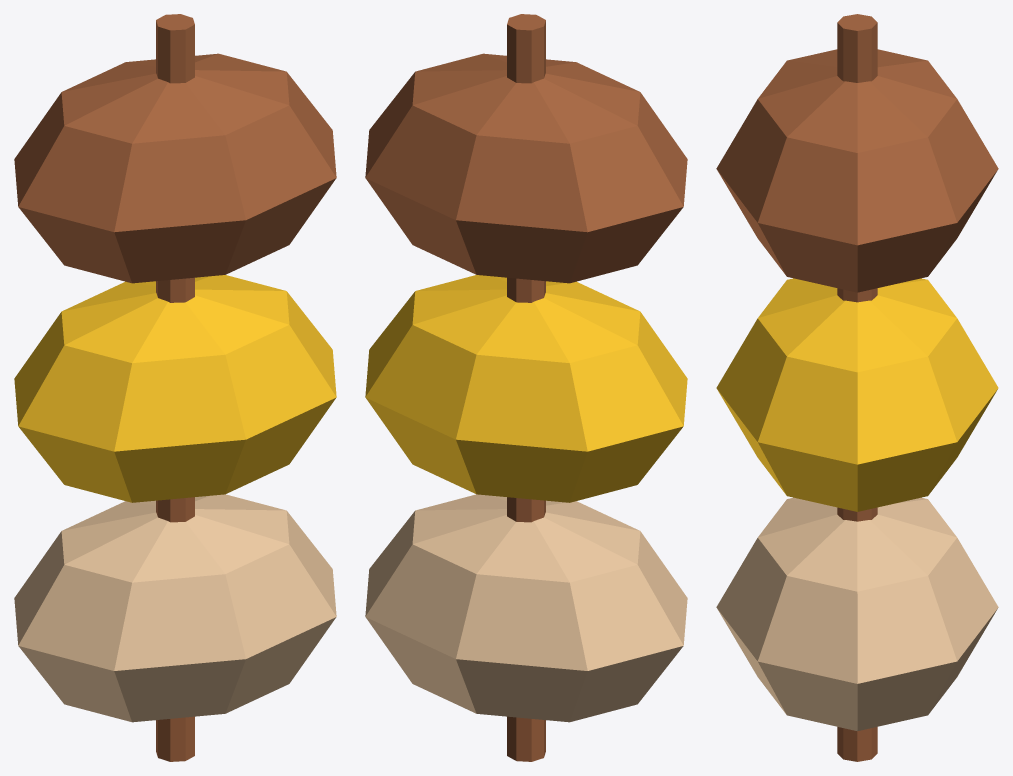
File: Item_Oden_v001.fbx
3 renders of one model, left to right at view 1: azimuth 30°, elevation 25°; view 2: azimuth 150°, elevation 25°; view 3: azimuth 270°, elevation 25°, orthographic.
Visible parts, largest first — view 1: OdenFood.002, OdenFood.001, OdenFood, Skewer; view 2: OdenFood.002, OdenFood.001, OdenFood, Skewer; view 3: OdenFood.002, OdenFood.001, OdenFood, Skewer.
Part boxes in pixels (x1,y1,x2,y2): OdenFood.002: (14,53,336,283); OdenFood.001: (14,275,336,502); OdenFood: (14,494,336,722); Skewer: (156,14,194,761); OdenFood.002: (365,53,687,283); OdenFood.001: (365,275,687,502); OdenFood: (365,494,687,722); Skewer: (507,14,545,761); OdenFood.002: (716,49,998,292); OdenFood.001: (716,278,998,511); OdenFood: (716,497,998,731); Skewer: (837,14,877,761).
Bounding box in the file's own units: 9 × 20 × 7.
